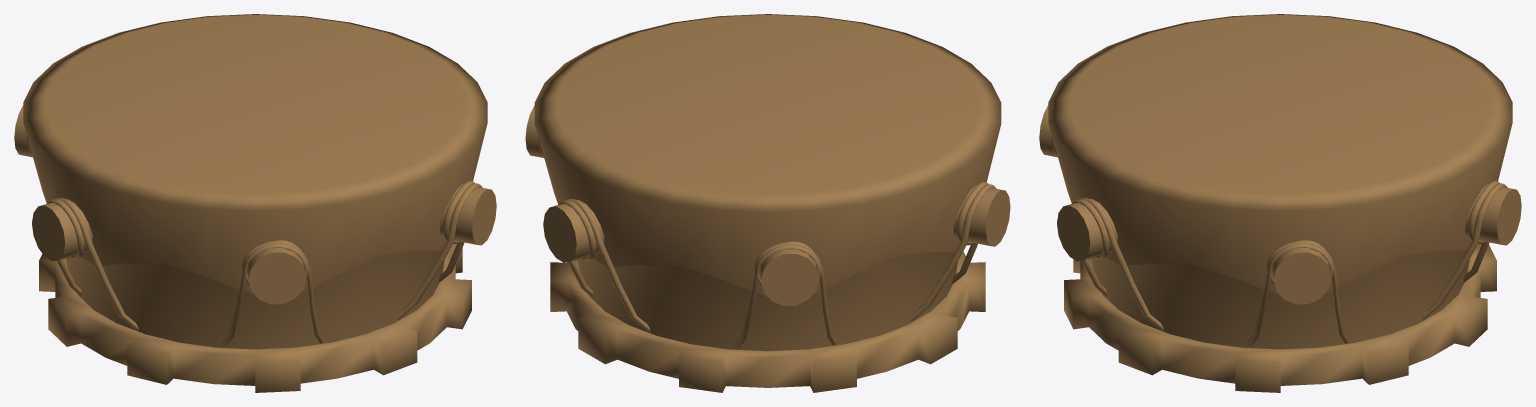
The model's file is DrumPlatform.fbx.
3 renders of one model, left to right at view 1: azimuth 30°, elevation 25°; view 2: azimuth 150°, elevation 25°; view 3: azimuth 270°, elevation 25°, orthographic.
Parts seen in each view (by area): view 1: DrumBody, DrumWoodPole2, DrumWoodPole1, DrumWoodPole3, DrumRope1, DrumRope5, DrumRope6; view 2: DrumBody, DrumWoodPole1, DrumWoodPole3, DrumWoodPole2, DrumRope5, DrumRope3, DrumRope4; view 3: DrumBody, DrumWoodPole3, DrumWoodPole2, DrumWoodPole1, DrumRope3, DrumRope1, DrumRope2.
Part boxes in pixels (x1=…): DrumBody: x1=23, y1=14, x2=487, y2=392; DrumWoodPole2: x1=247, y1=241, x2=306, y2=304; DrumWoodPole1: x1=14, y1=105, x2=496, y2=245; DrumWoodPole3: x1=32, y1=199, x2=92, y2=261; DrumRope1: x1=398, y1=181, x2=482, y2=319; DrumRope5: x1=46, y1=198, x2=138, y2=330; DrumRope6: x1=221, y1=240, x2=323, y2=346; DrumBody: x1=534, y1=14, x2=1001, y2=392; DrumWoodPole1: x1=759, y1=242, x2=819, y2=305; DrumWoodPole3: x1=525, y1=105, x2=1010, y2=246; DrumWoodPole2: x1=543, y1=200, x2=604, y2=262; DrumRope5: x1=911, y1=182, x2=996, y2=321; DrumRope3: x1=558, y1=199, x2=650, y2=332; DrumRope4: x1=734, y1=241, x2=836, y2=348; DrumBody: x1=1048, y1=14, x2=1512, y2=392; DrumWoodPole3: x1=1272, y1=241, x2=1331, y2=304; DrumWoodPole2: x1=1039, y1=105, x2=1521, y2=245; DrumWoodPole1: x1=1057, y1=199, x2=1117, y2=261; DrumRope3: x1=1423, y1=181, x2=1507, y2=319; DrumRope1: x1=1071, y1=198, x2=1163, y2=330; DrumRope2: x1=1246, y1=240, x2=1348, y2=346.
Bounding box in the file's own units: 4.53 × 1.93 × 4.3.
